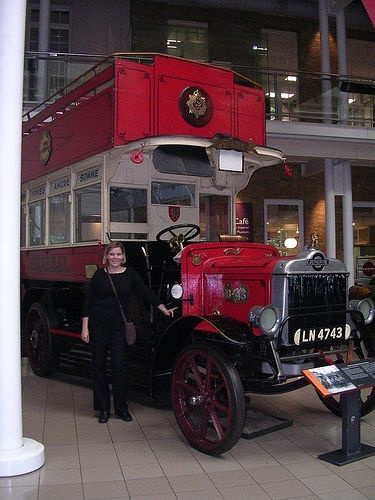head: (104, 246, 127, 270)
person: (80, 240, 173, 424)
